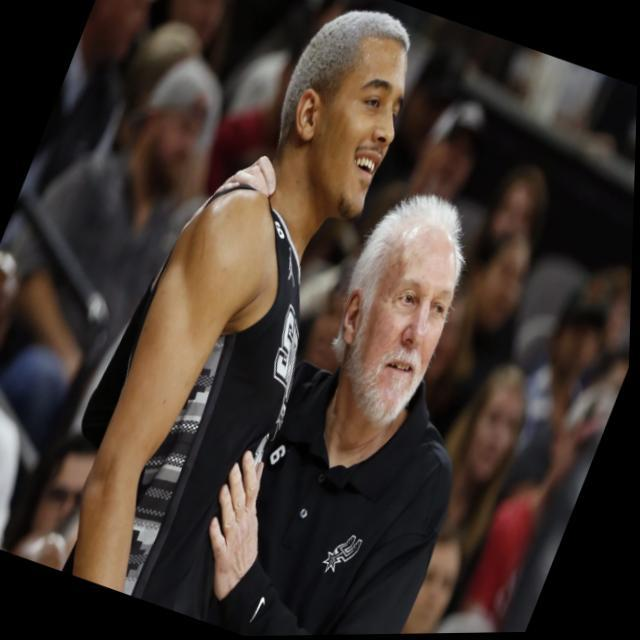Nonhelmet: (339, 186, 473, 427), (266, 0, 398, 223)
